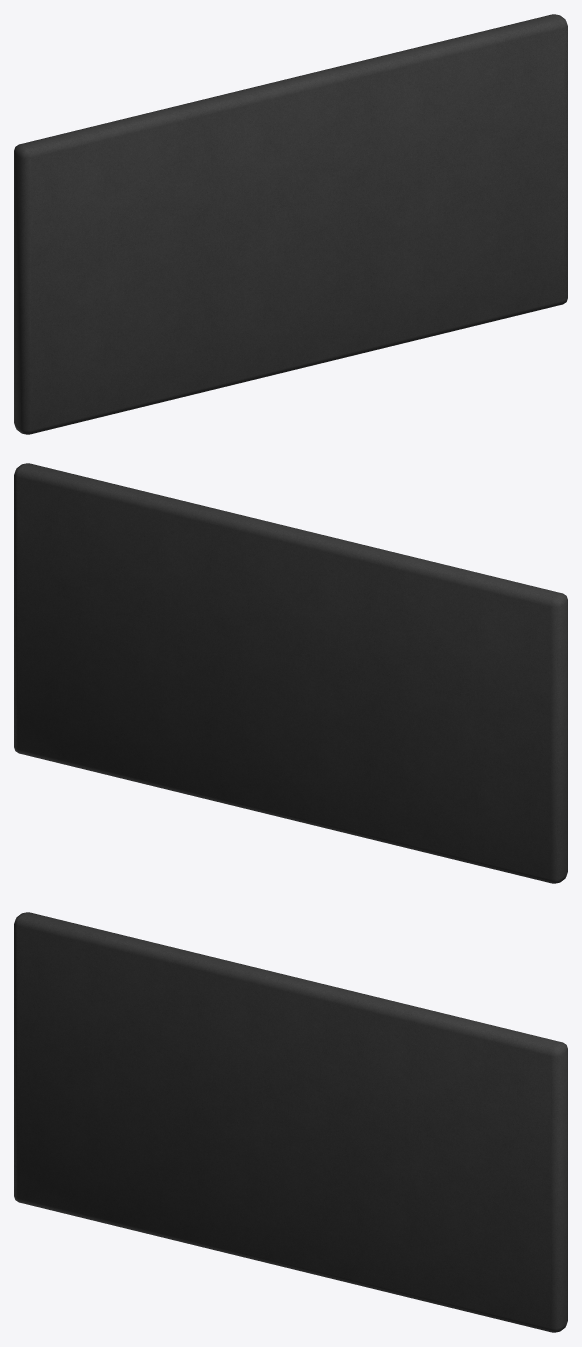
File: partition.hanging-acoustic-panel.glb
3 renders of one model, top to bottom at view 1: azimuth 30°, elevation 25°; view 2: azimuth 150°, elevation 25°; view 3: azimuth 330°, elevation 25°, orthographic.
Parts seen in each view (by area): view 1: partition.hanging-acoustic-panel.001; view 2: partition.hanging-acoustic-panel.001; view 3: partition.hanging-acoustic-panel.001.
Boxes of the visible parts, bbox=[...] form: partition.hanging-acoustic-panel.001: bbox=[14, 14, 567, 434]; partition.hanging-acoustic-panel.001: bbox=[14, 463, 567, 883]; partition.hanging-acoustic-panel.001: bbox=[14, 912, 567, 1332].
Size of the model in its own units: 1.2 by 0.6 by 0.05.
1 material, 1 textured.
